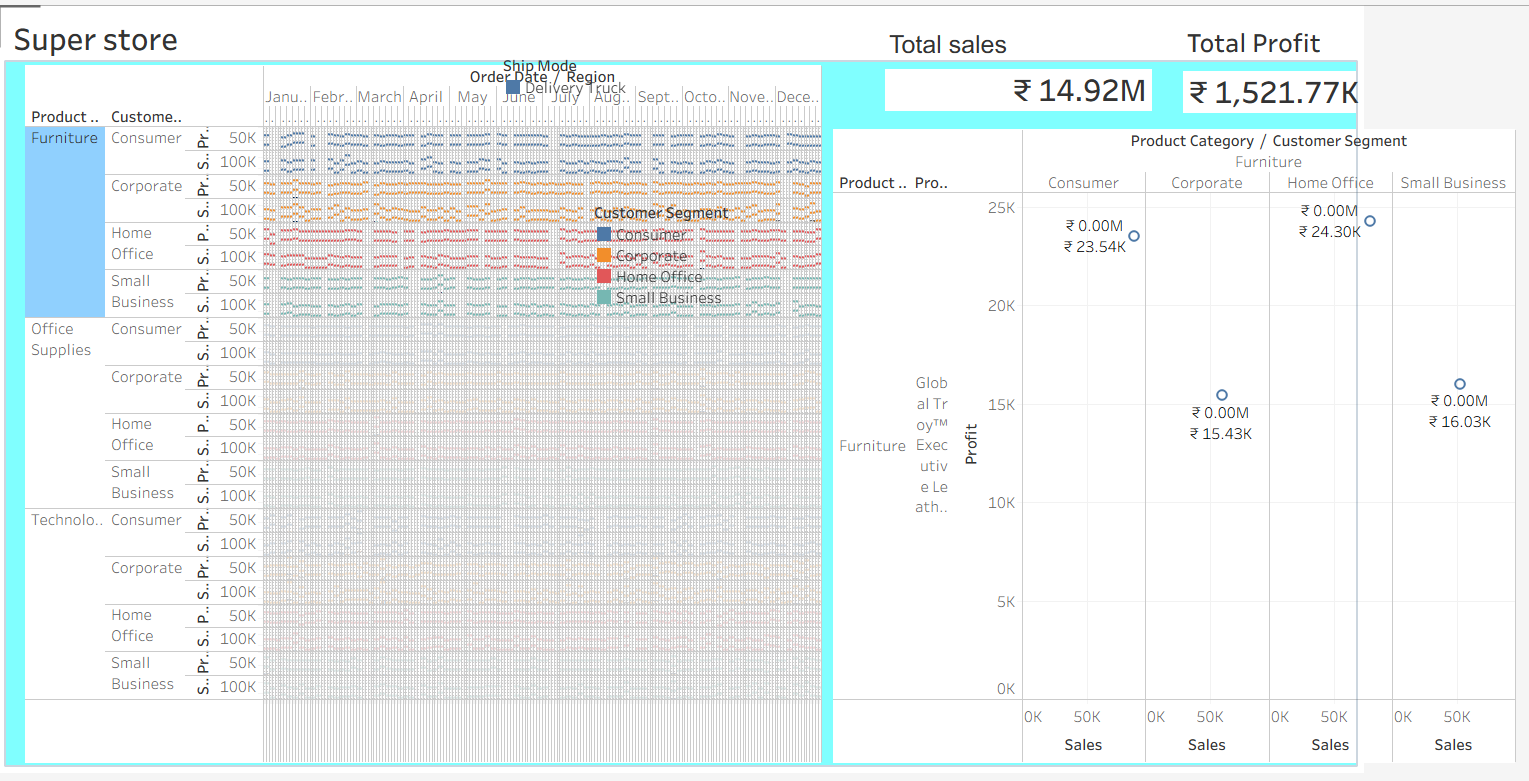

This screenshot's page, from the dashboard's own definition file:
{"tool":"tableau","page":{"name":"Dashboard 1","canvas":[1366,768],"ordinal":0},"visuals":[{"type":"title","box":[8,8,1350,49]},{"type":"worksheet","title":"Sheet 1","mark":"Automatic","box":[887,21,281,219]},{"type":"worksheet","title":"Sheet 3","mark":"Automatic","rows":["Product Category","Customer Segment","Profit","Sales"],"cols":["Order Date","Region","Sales","Profit"],"box":[59,49,765,709]},{"type":"legend","title":"Sheet 4","param":"[federated.1jgmf1q0fdls551ax37r50jodst2].[none:Ship Mode:nk]","box":[505,50,140,43]},{"type":"legend","title":"Sheet 3","param":"[federated.1jgmf1q0fdls551ax37r50jodst2].[none:Customer Segment:nk]","box":[596,197,140,106]}]}

Visuals, with their boxes on the page's 1366x768 design canvas (x1, y1, x2, y2). These are canvas units, not pixel positions in the 1529x781 screenshot, which may show the page scaled, cropped or inside an application window:
title: <box>8,8,1358,57</box>
"Sheet 1" worksheet: <box>887,21,1168,240</box>
"Sheet 3" worksheet: <box>59,49,824,758</box>
"Sheet 4" legend: <box>505,50,645,93</box>
"Sheet 3" legend: <box>596,197,736,303</box>
